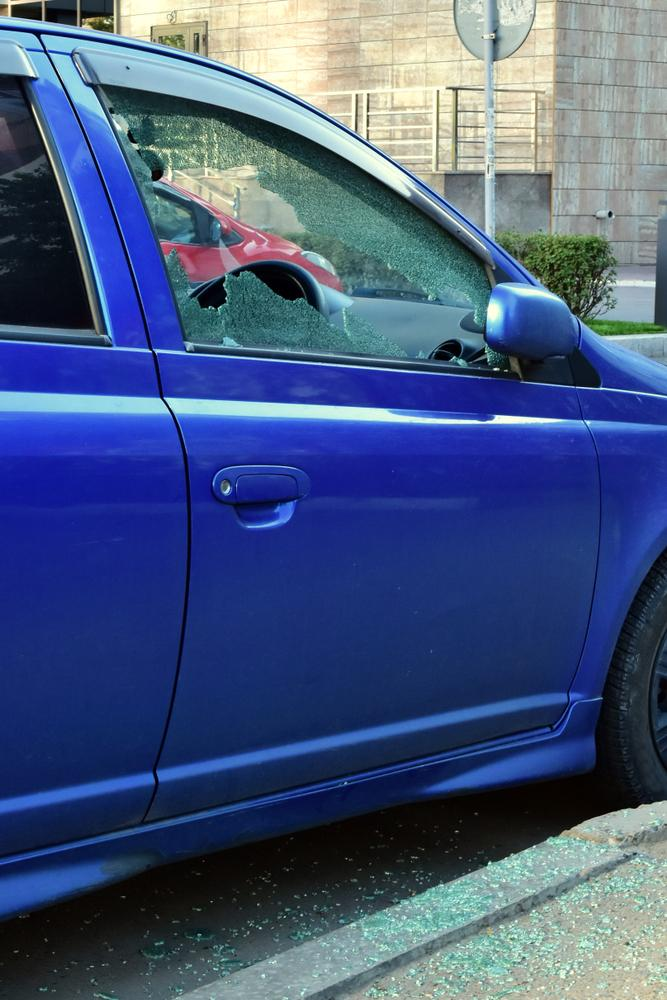glass shatter: (96, 91, 501, 368)
